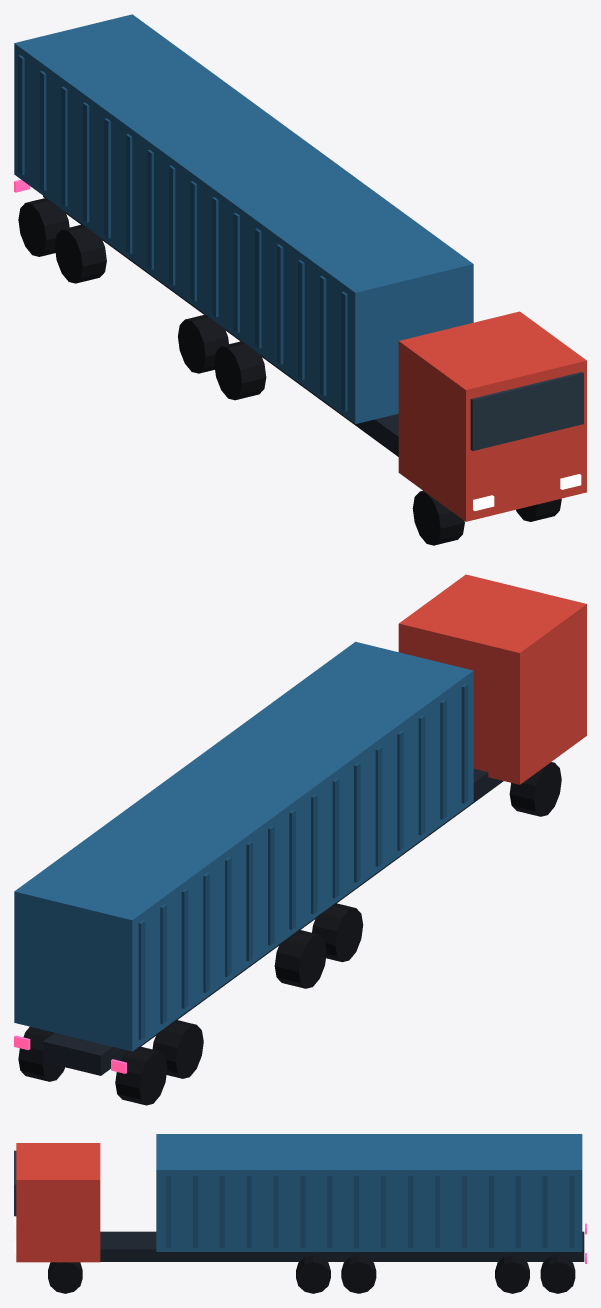
Rendered from container_truck_blue.glb.
The picture shows the model from 3 angles, top to bottom: view 1: azimuth 30°, elevation 25°; view 2: azimuth 150°, elevation 25°; view 3: azimuth 270°, elevation 25°; orthographic projection. The views are drawn at different scales.
Visible parts, largest first — view 1: truck; view 2: truck; view 3: truck.
Part boxes in pixels (x1,y1,x2,y2): truck: (14, 14, 586, 545); truck: (14, 574, 586, 1105); truck: (14, 1134, 586, 1293).
Bounding box in the file's own units: 2.54 × 3.89 × 16.4.
